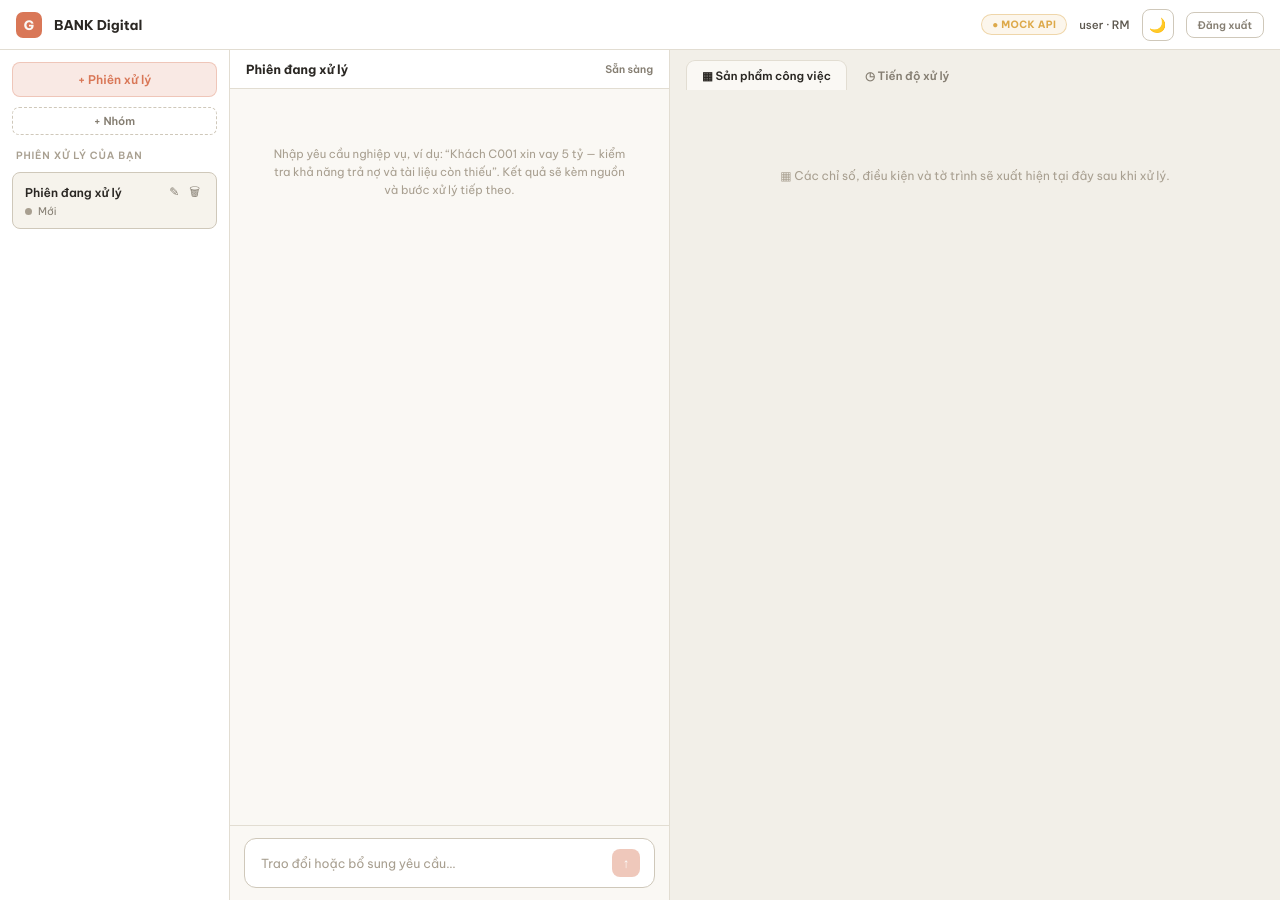
Test case: Workspace chat — vòng lõi S1 (mock API) › interrupt lỗi chỉ hiện thông báo nghiệp vụ generic, không lộ lỗi runtime
Expected: the text "Phiên đang xử lý" below "PHIÊN XỬ LÝ CỦA BẠN" is shown, [25,184,122,200]
Click the tab "◷ Tiến độ xử lý": (907, 75) [849,60,965,90]
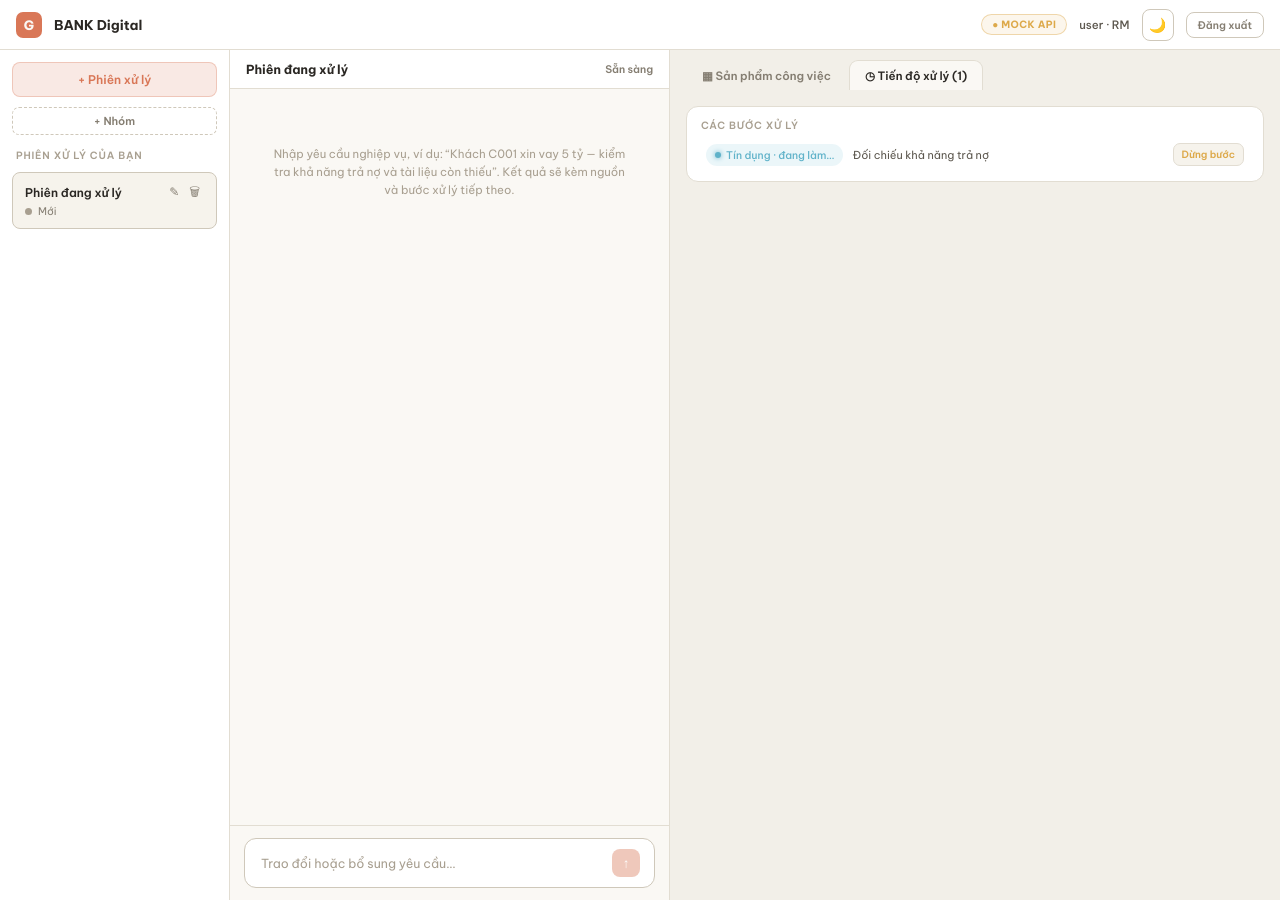
Click the button with test id "task-stop-task-running": (1208, 154) [1173,143,1244,166]
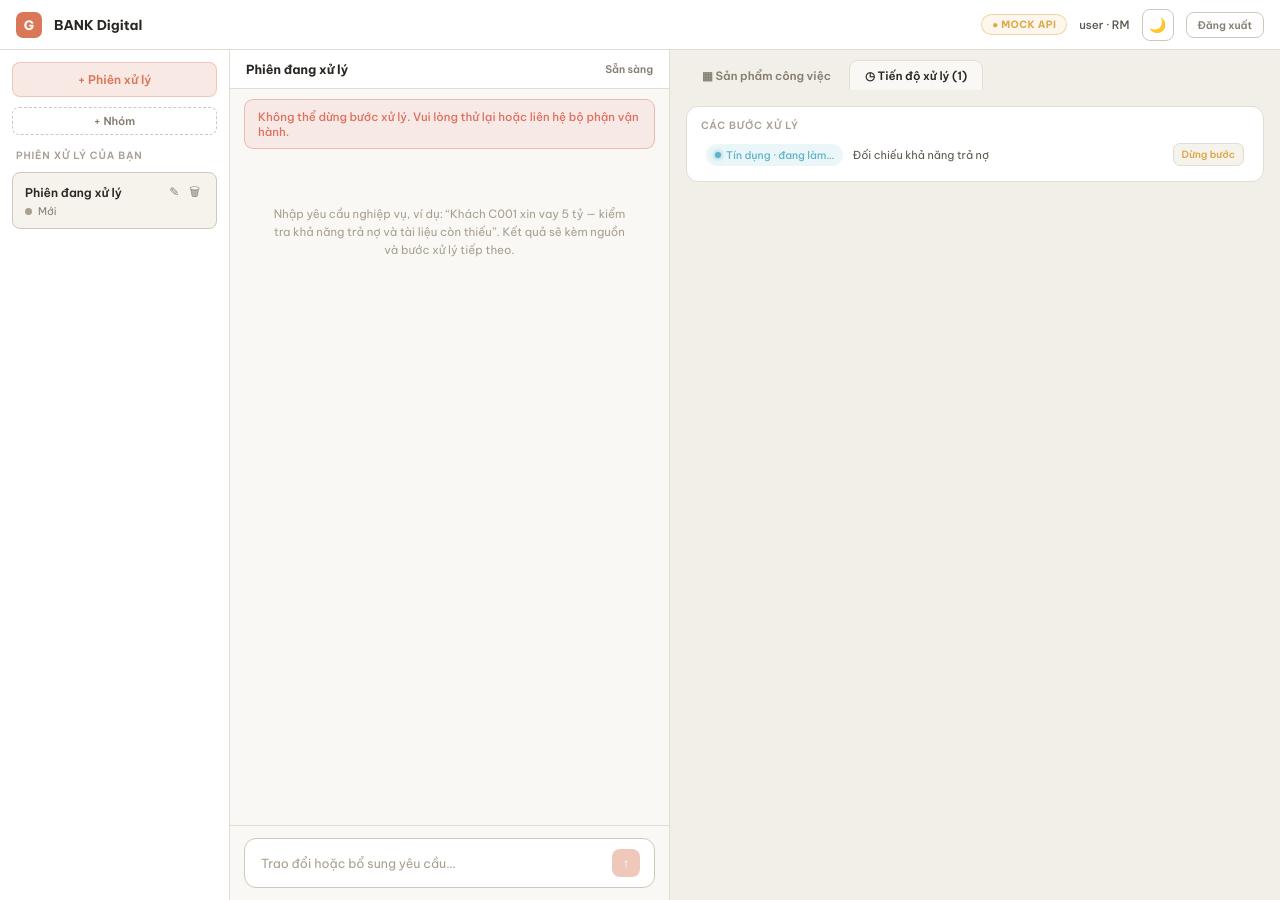
Expected: the text "Không thể dừng bước xử lý" is shown, [258,109,639,139]
